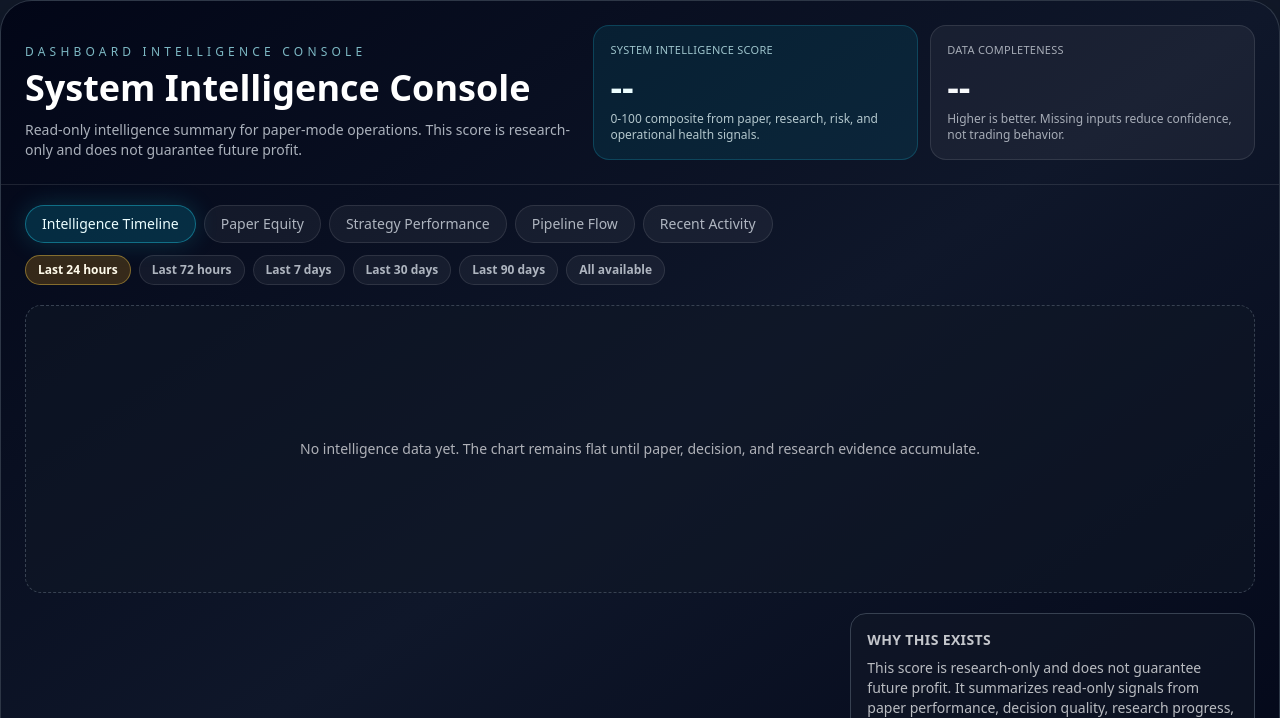
Test: DashboardIntelligenceConsole › keeps existing dashboard sections accessible via tabs
Expected: the heading "System Intelligence Console" is shown, [25, 68, 577, 108]
Click the tab "Paper Equity": click(262, 224) [204, 204, 321, 242]
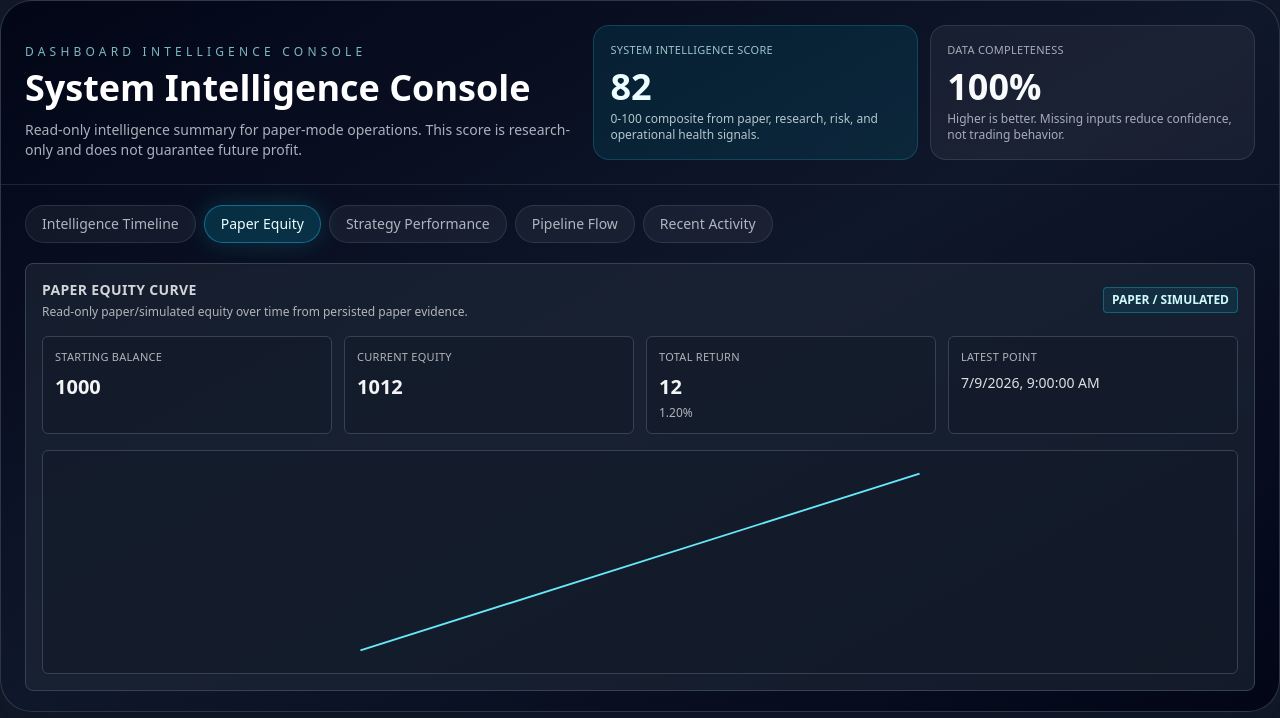
Expected: the heading "Paper Equity Curve" is shown, [42, 280, 197, 298]
Click the tab "Strategy Performance": click(418, 224) [329, 204, 507, 242]
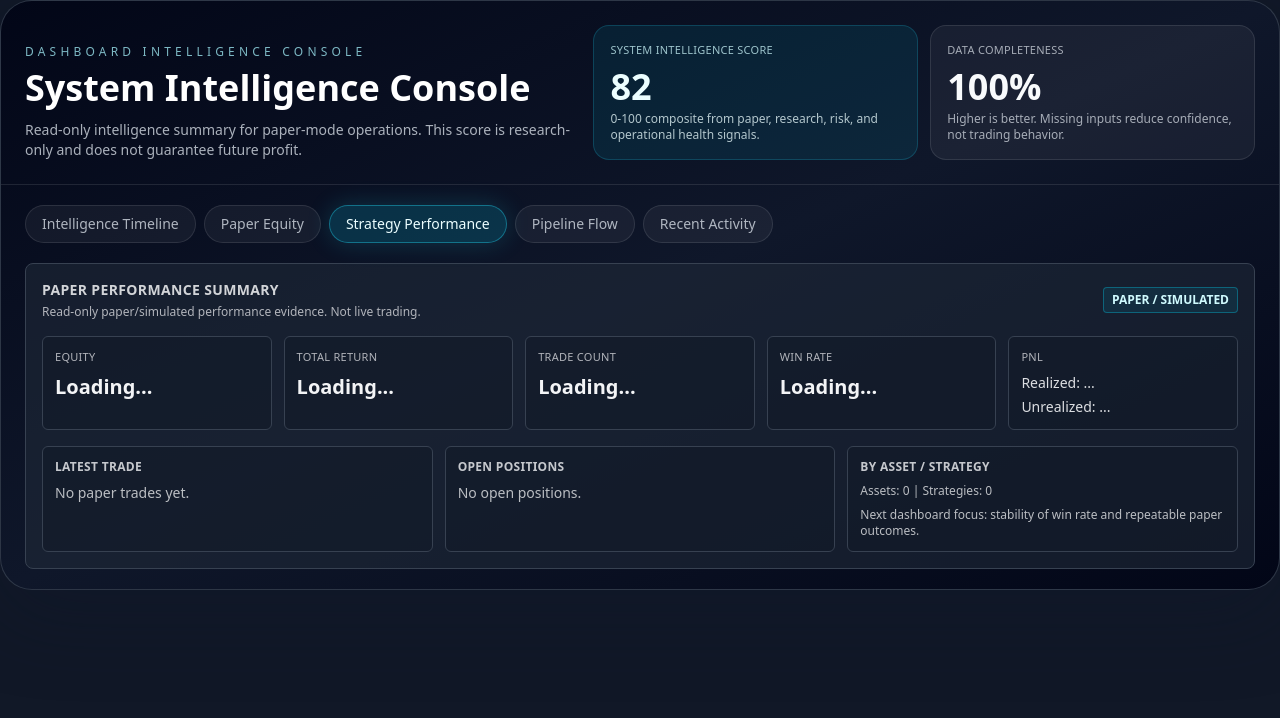
Expected: the heading "Paper Performance Summary" is shown, [42, 280, 279, 298]
Click the tab "Pipeline Flow": click(575, 224) [515, 204, 635, 242]
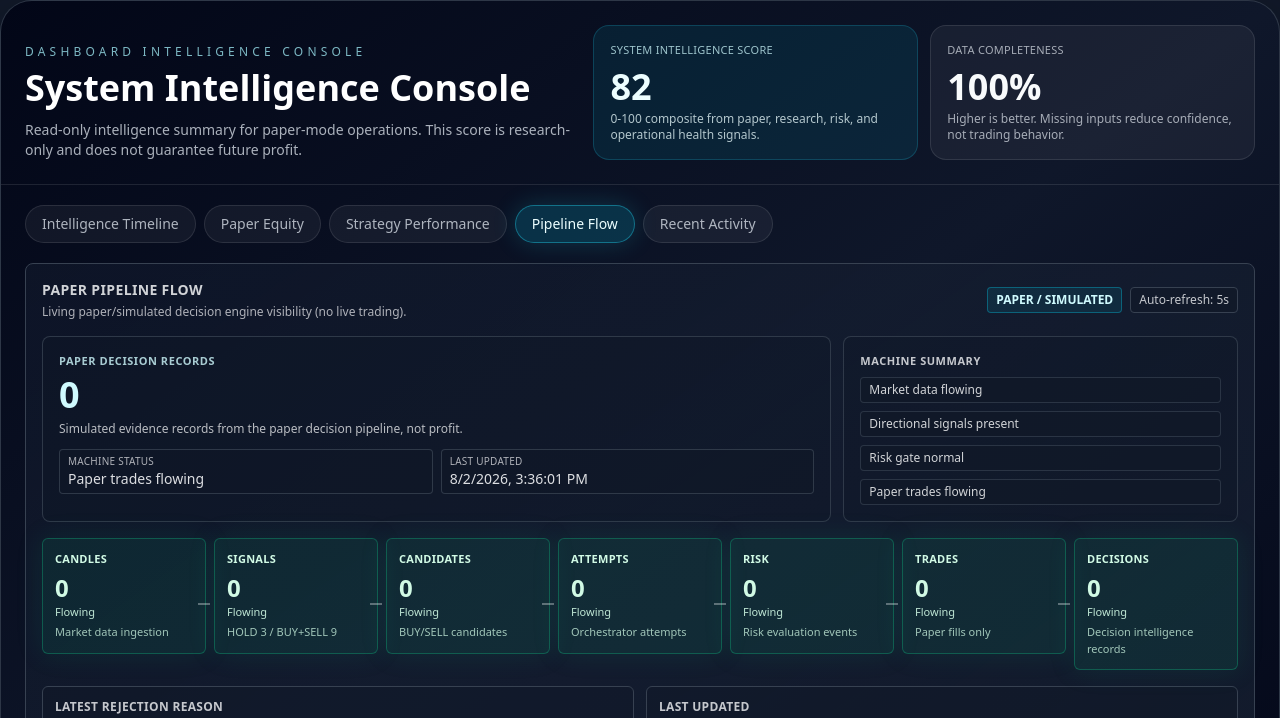
Expected: the heading "Paper Pipeline Flow" is shown, [42, 280, 203, 298]
Click the tab "Recent Activity": click(708, 224) [643, 204, 773, 242]
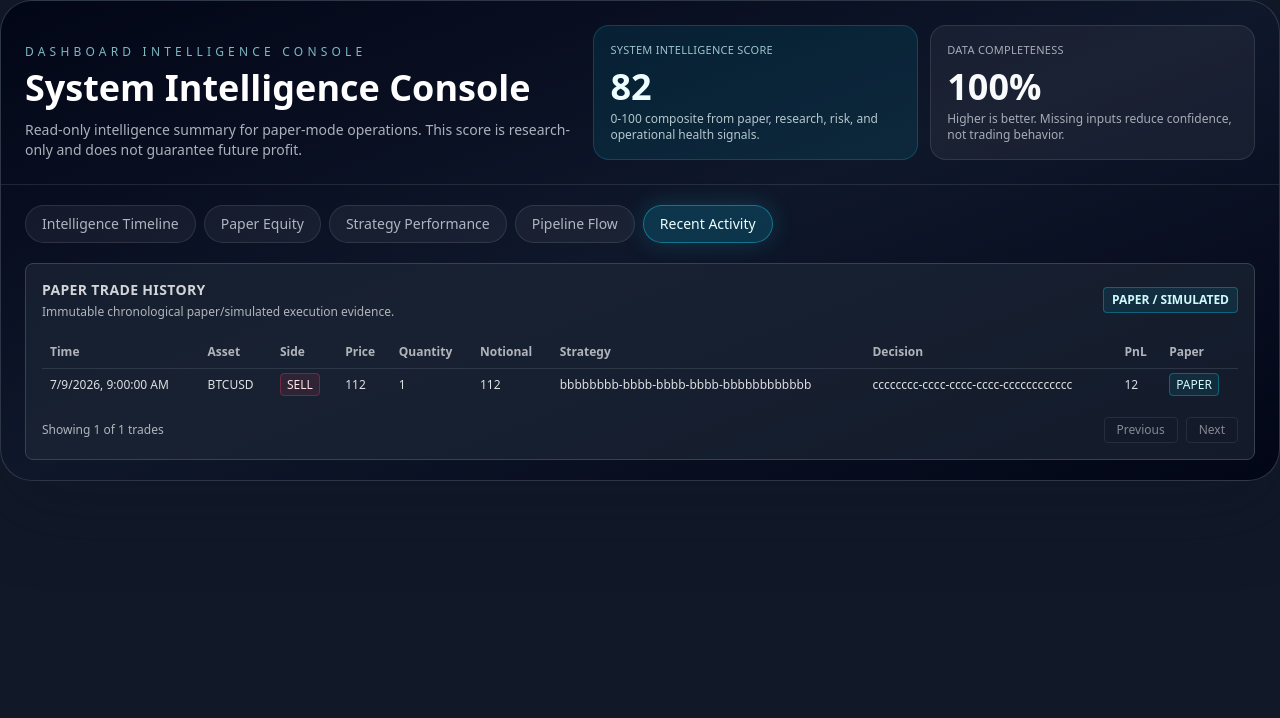
Expected: the heading "Paper Trade History" is shown, [42, 280, 206, 298]
